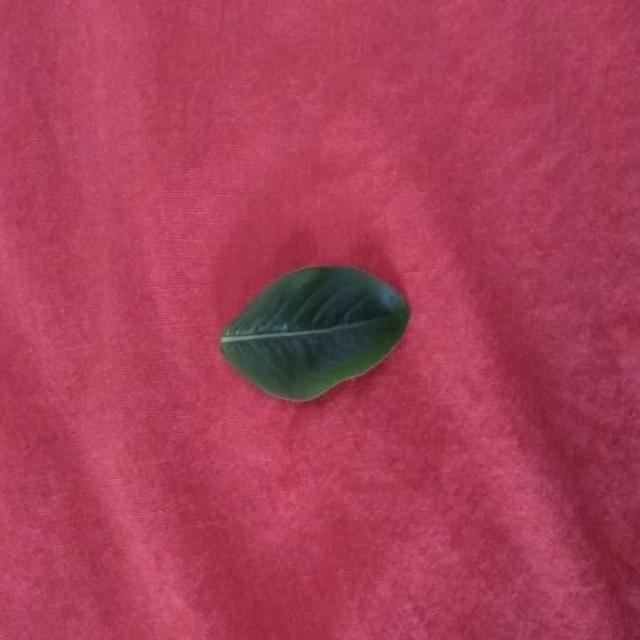catharanthus: (222, 266, 410, 401)
